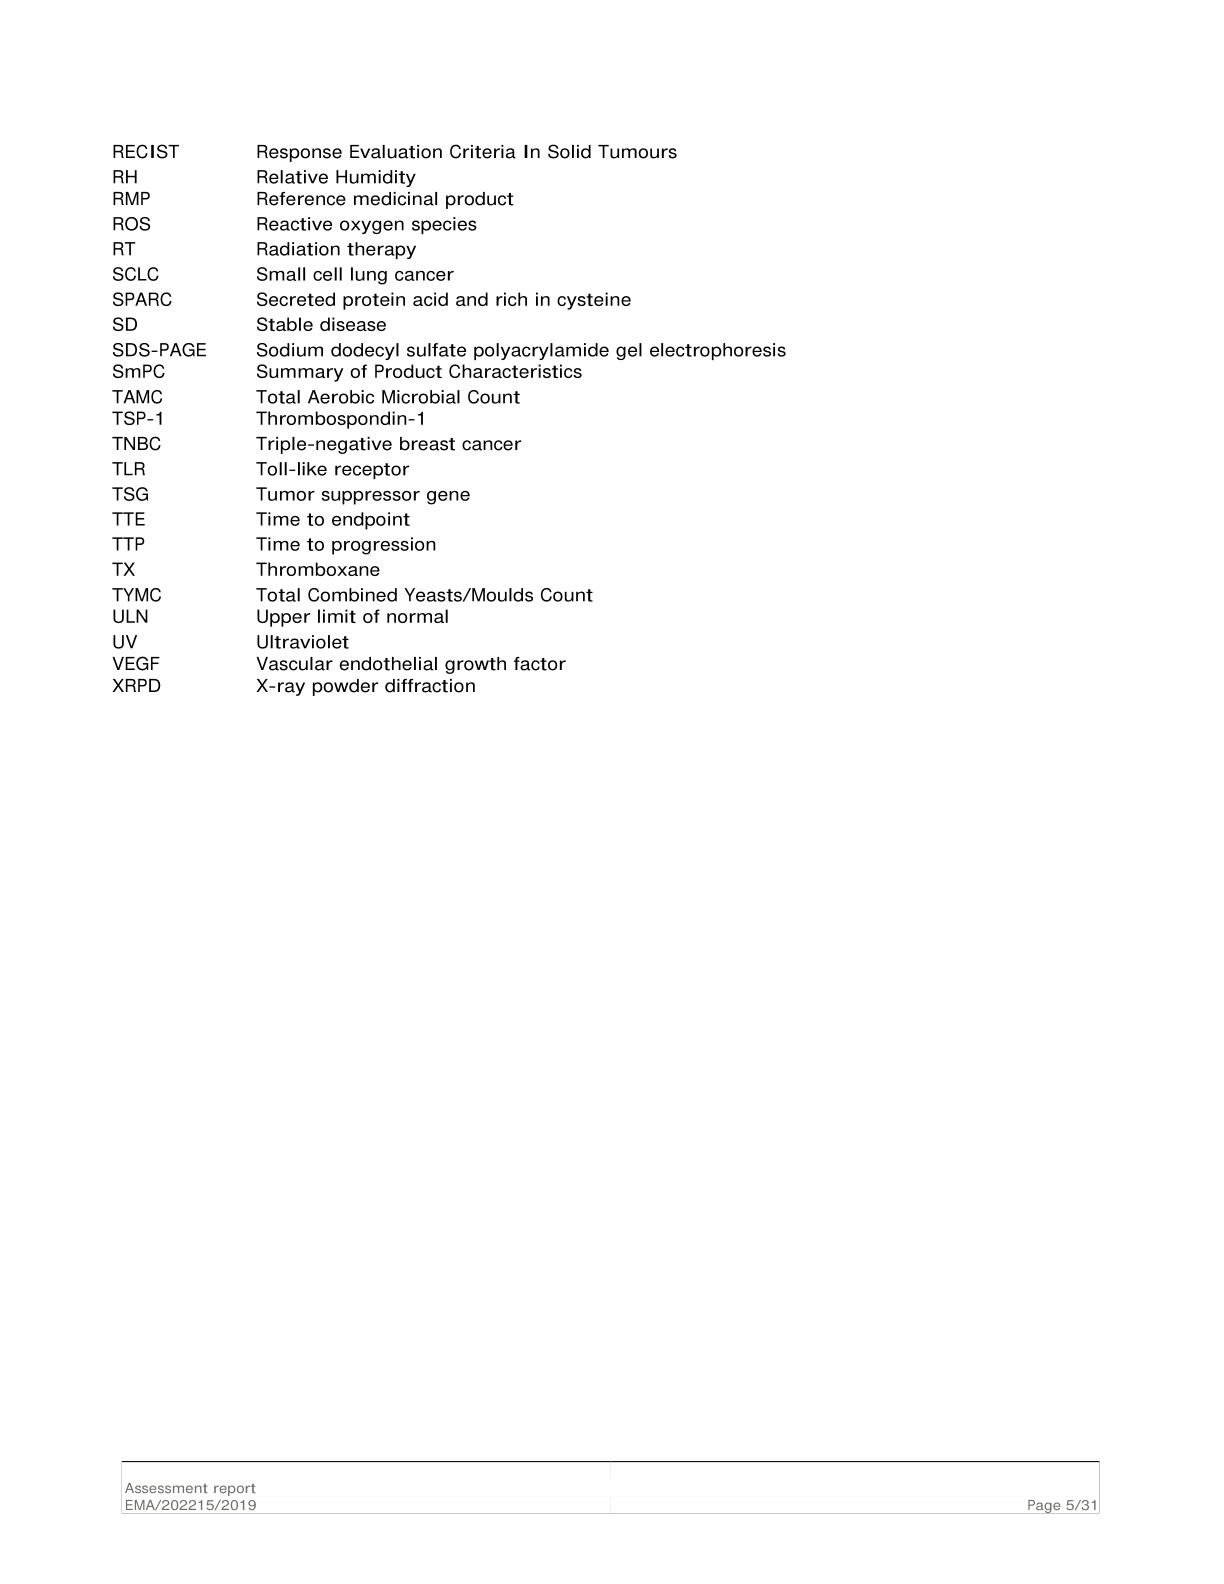nolines: (111, 141, 788, 696)
